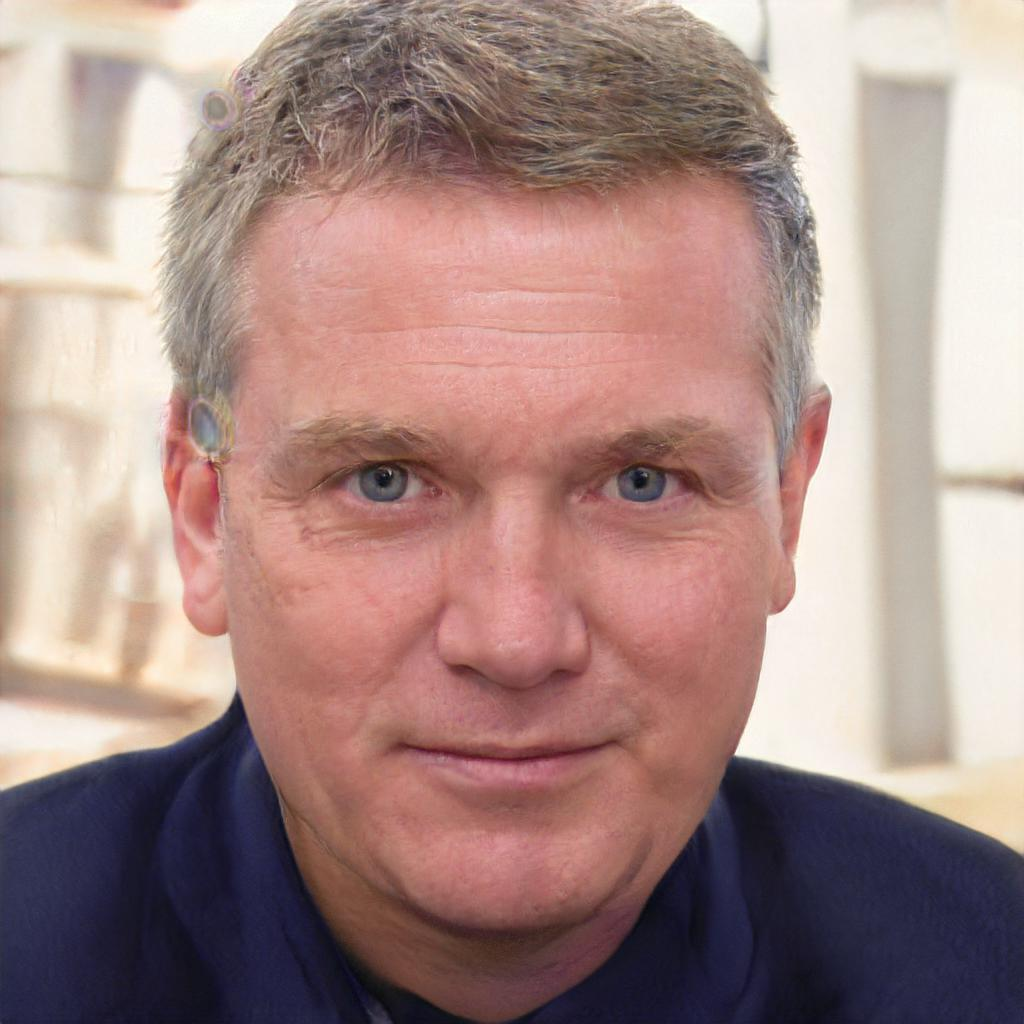face: (229, 178, 775, 928)
